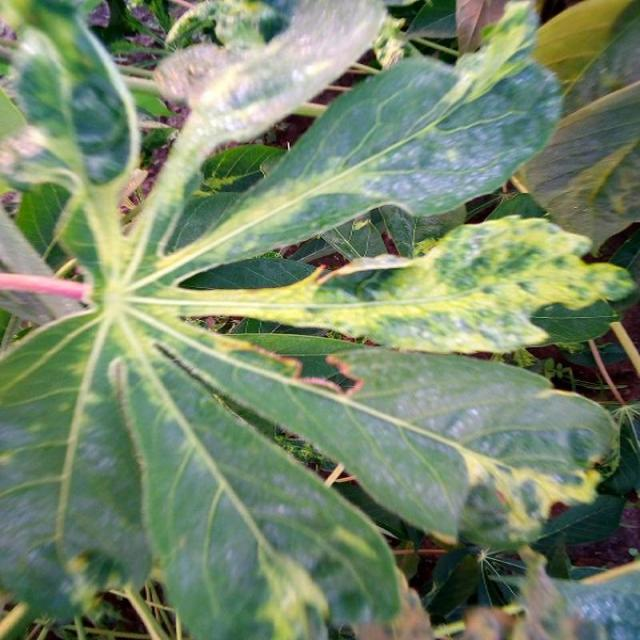cassava leaf: (1, 0, 632, 638)
